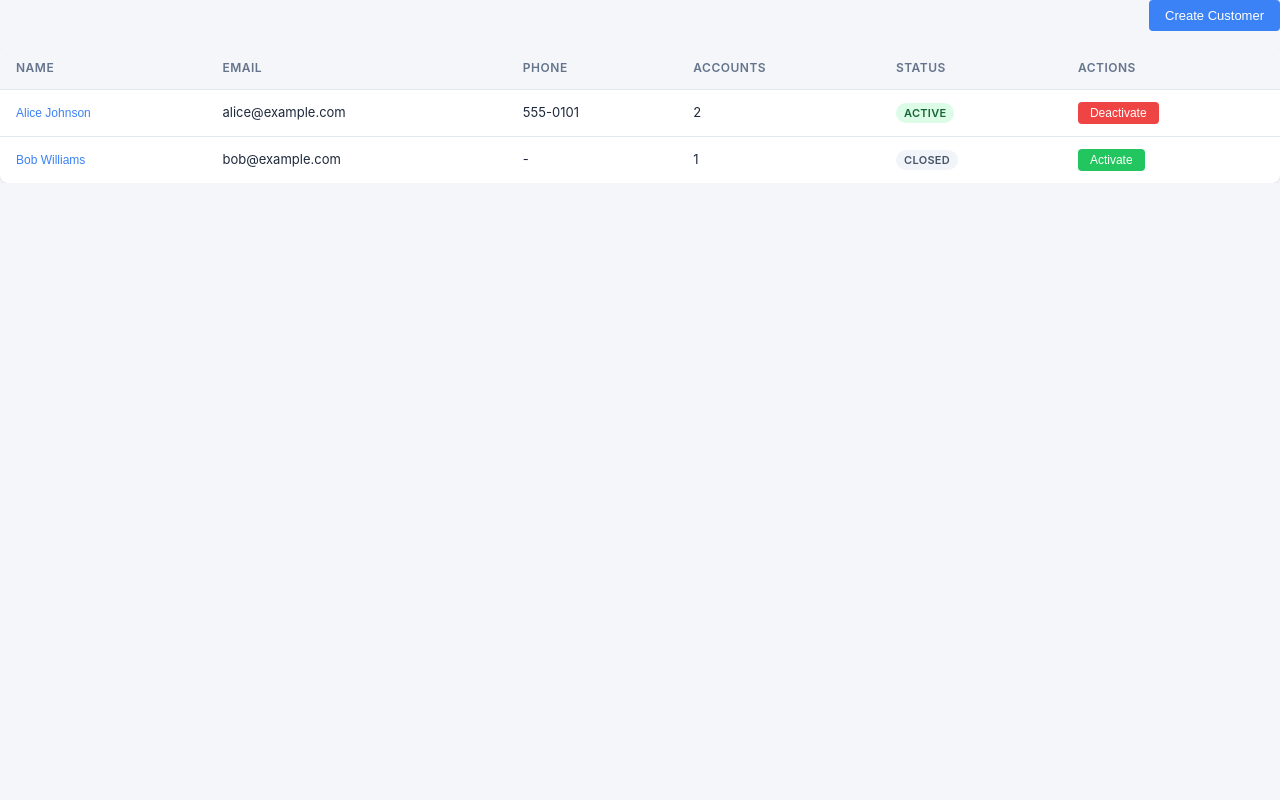
Scenario: CustomersPage › shows notification on deactivate failure
Step 1. Click the button "Deactivate" → click(1118, 113), box [1078,102,1159,124]
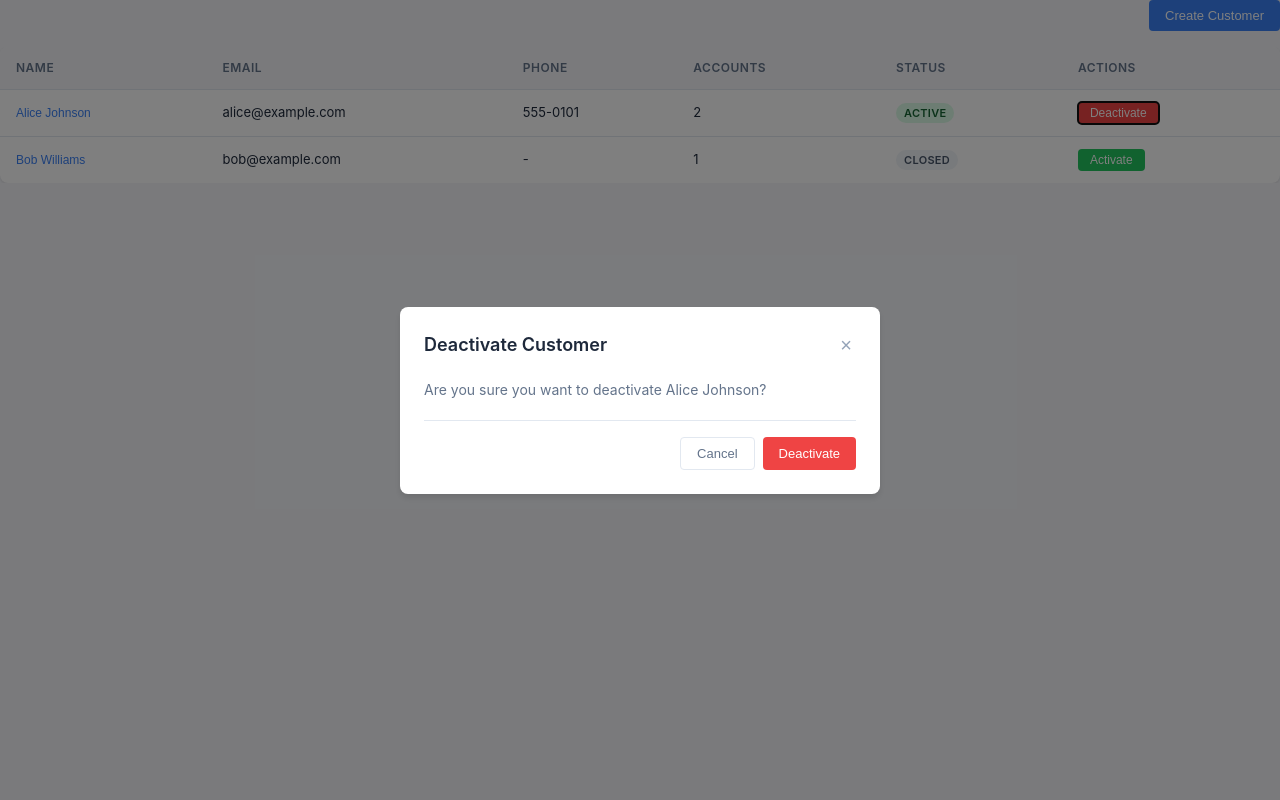
Step 2. Click the button "Deactivate" → click(809, 453), box [763,436,856,470]
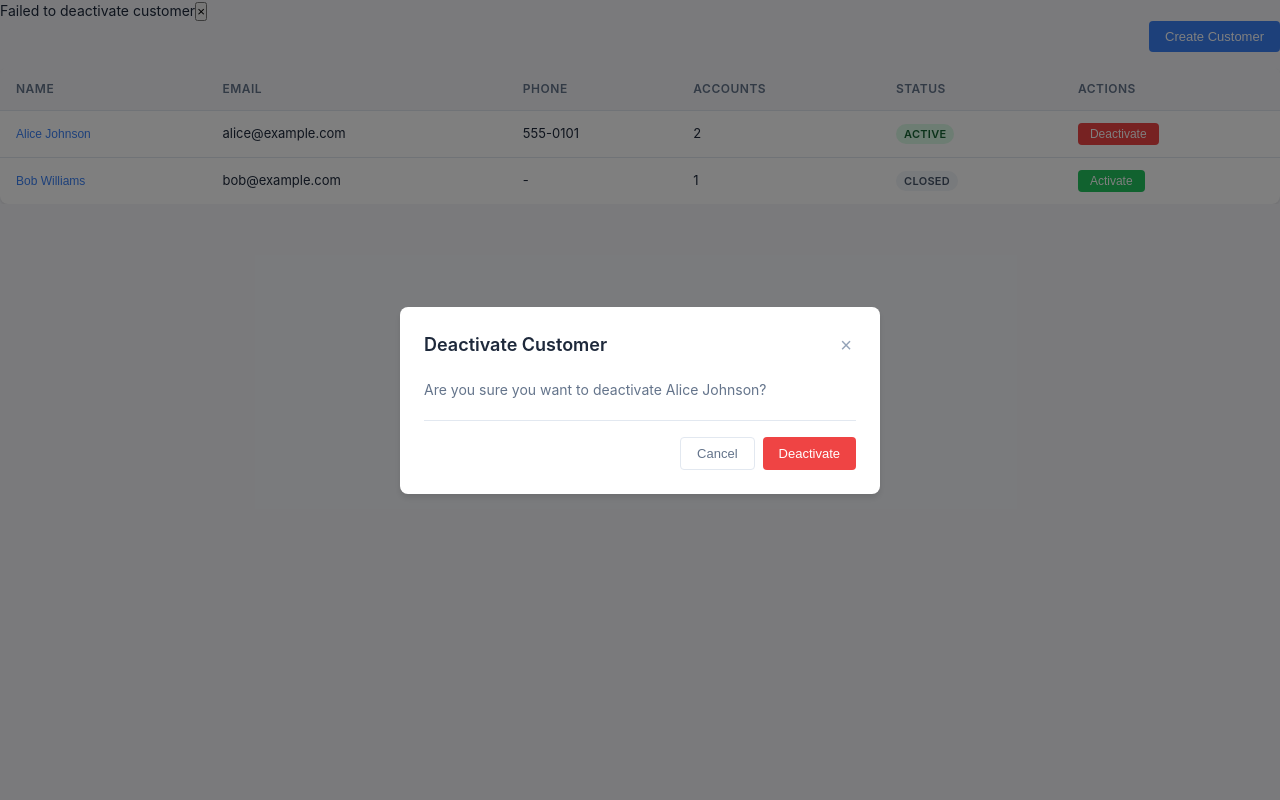
Result: the text "Failed to deactivate customer" is shown at [0,2,195,19]
